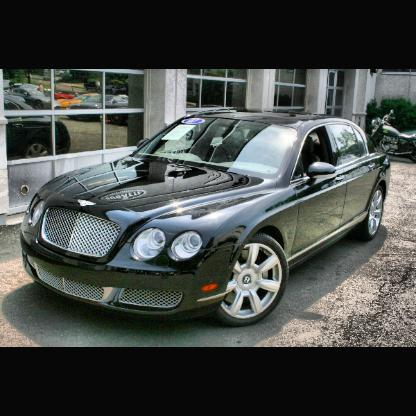Bentley Continental Flying Spur Sedan 2007: (20, 110, 393, 323)
